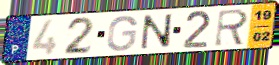2: (63, 16, 97, 55), (183, 9, 212, 49)
4: (30, 18, 59, 56)
G: (105, 14, 139, 53)
N: (140, 13, 174, 51)
R: (212, 7, 251, 48)
